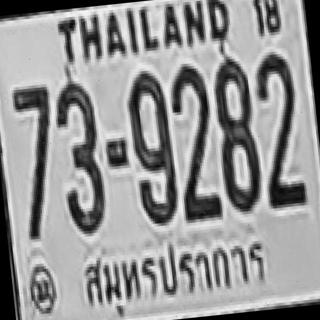N00: (123, 66, 178, 222)
N02: (252, 50, 304, 195), (167, 62, 218, 204), (251, 50, 302, 184)
N03: (52, 76, 106, 232)
N07: (10, 84, 62, 234)
N08: (210, 54, 261, 210)
N09: (123, 68, 178, 224)
P57: (76, 232, 270, 318)
